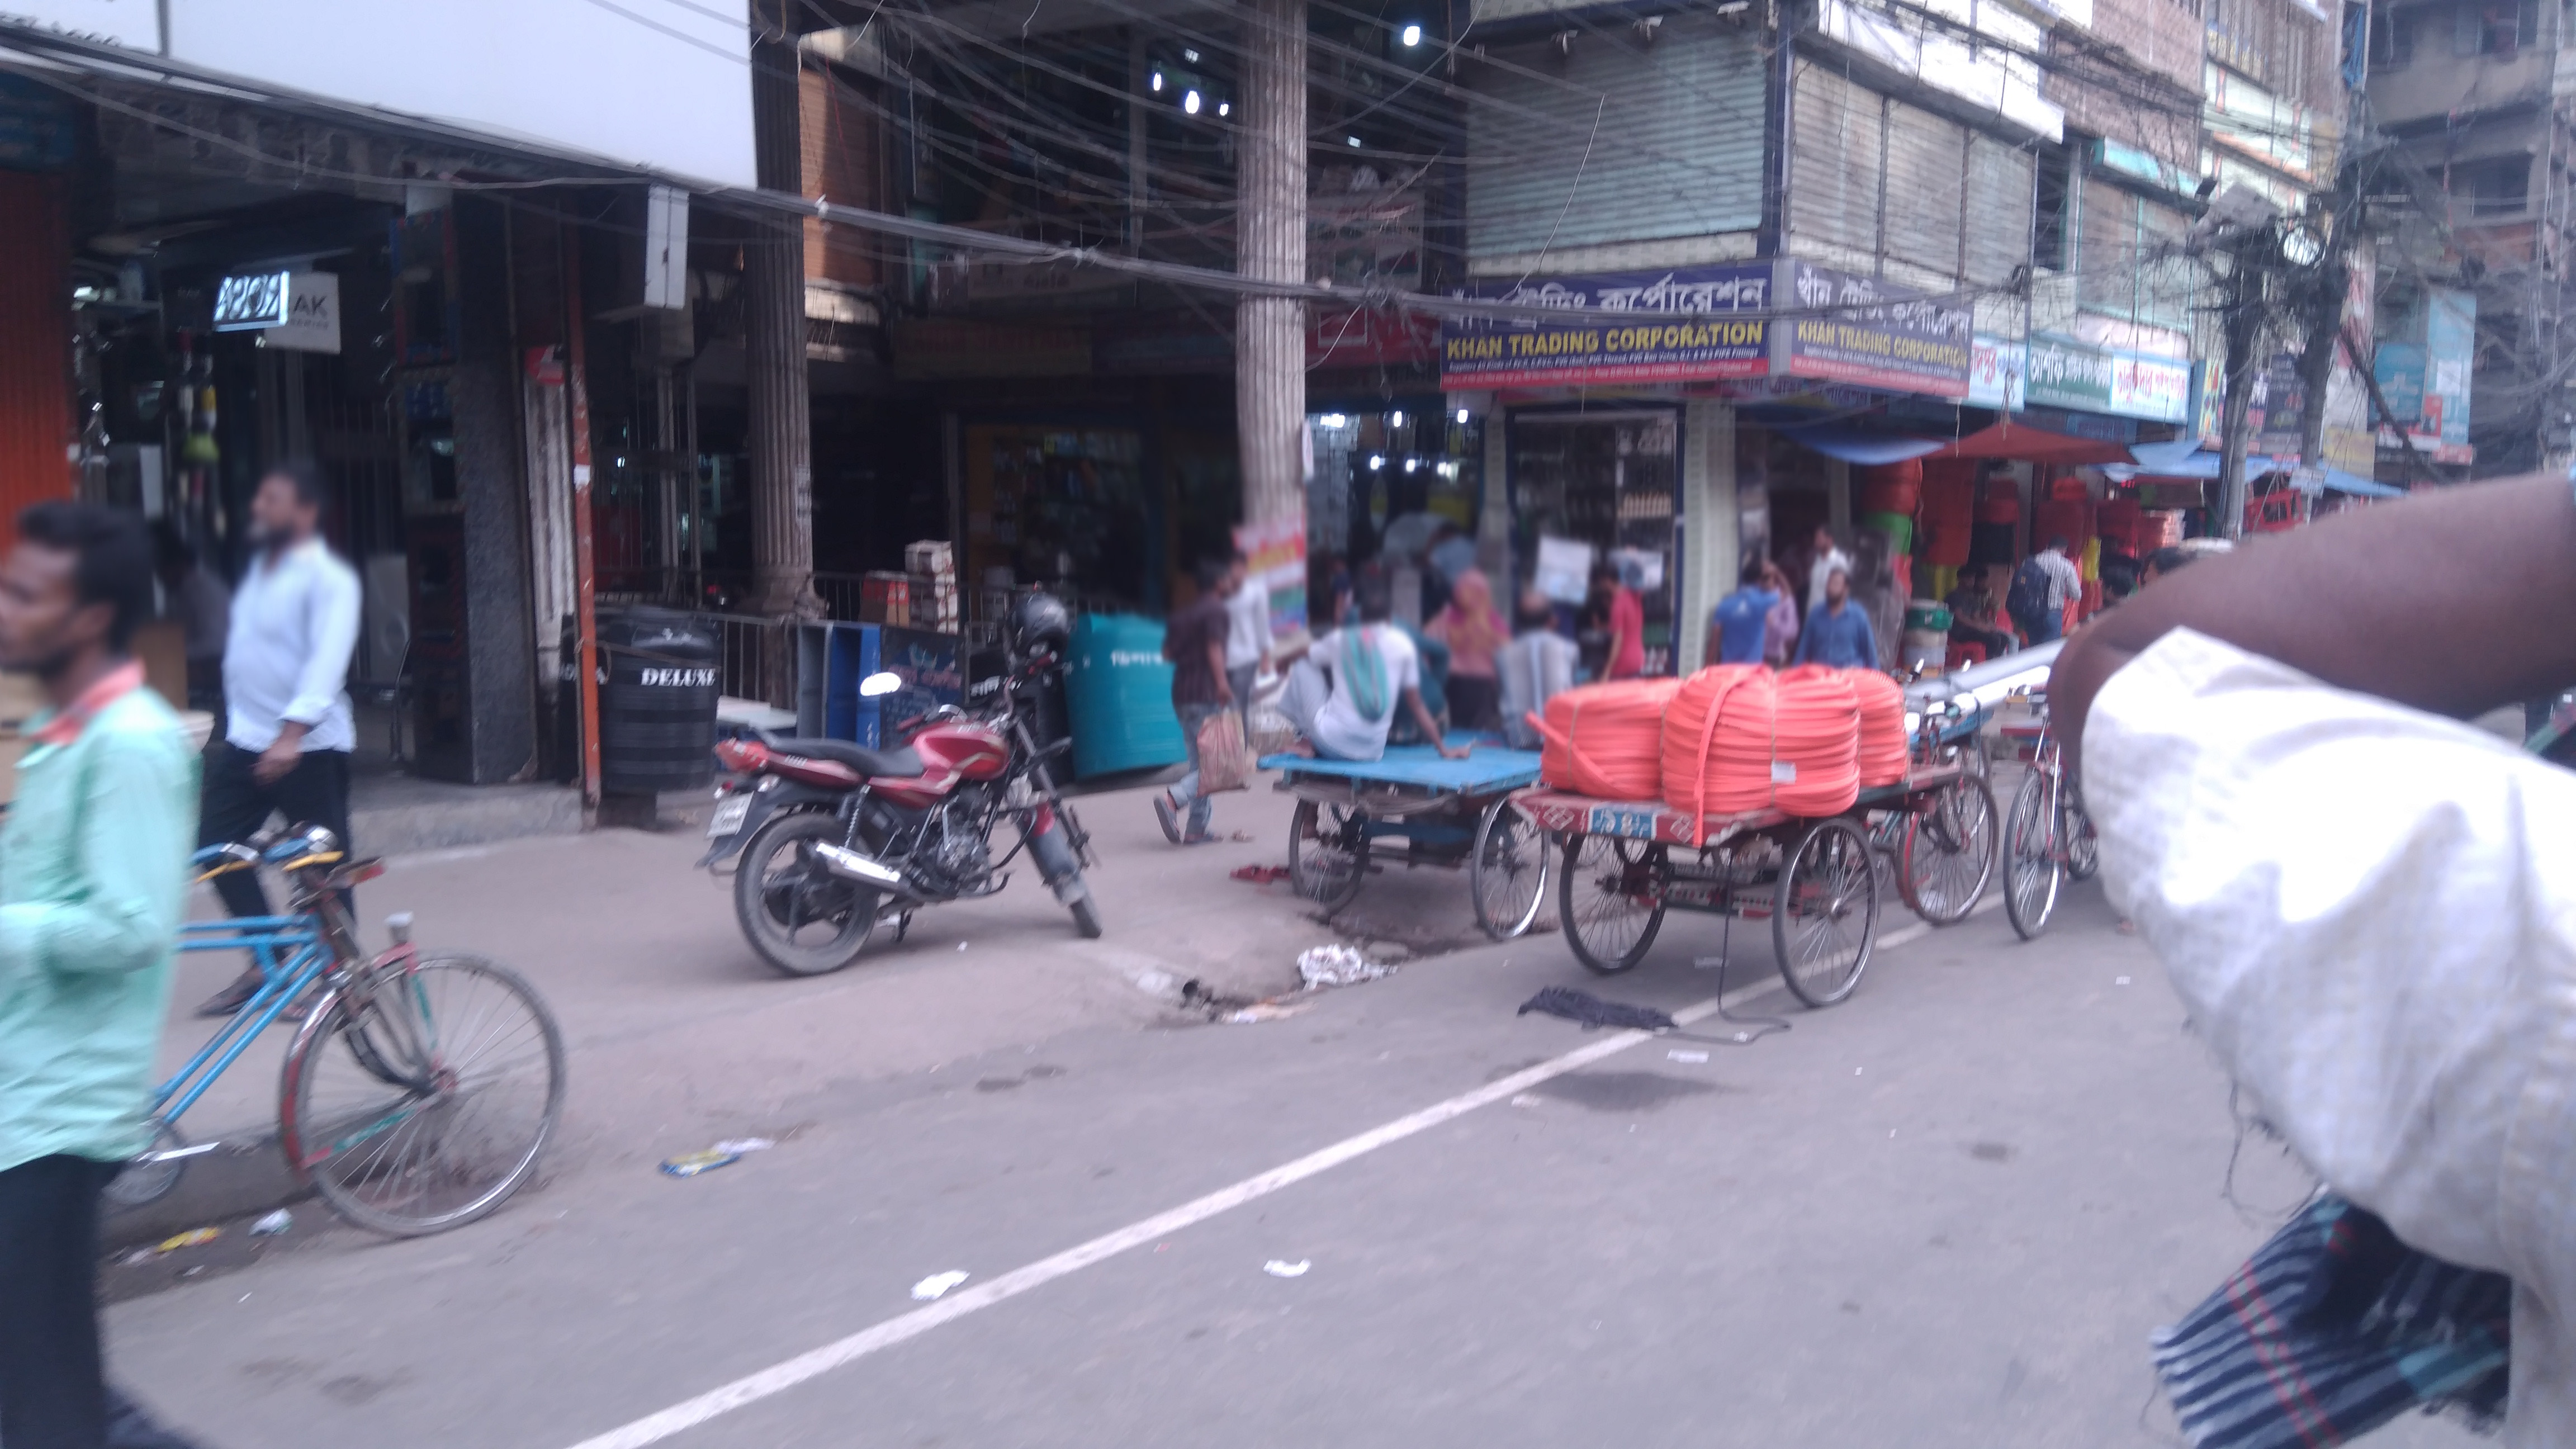bike: (688, 644, 1123, 978)
van: (161, 821, 580, 1251), (1545, 738, 2008, 1008), (1254, 731, 1575, 938)
